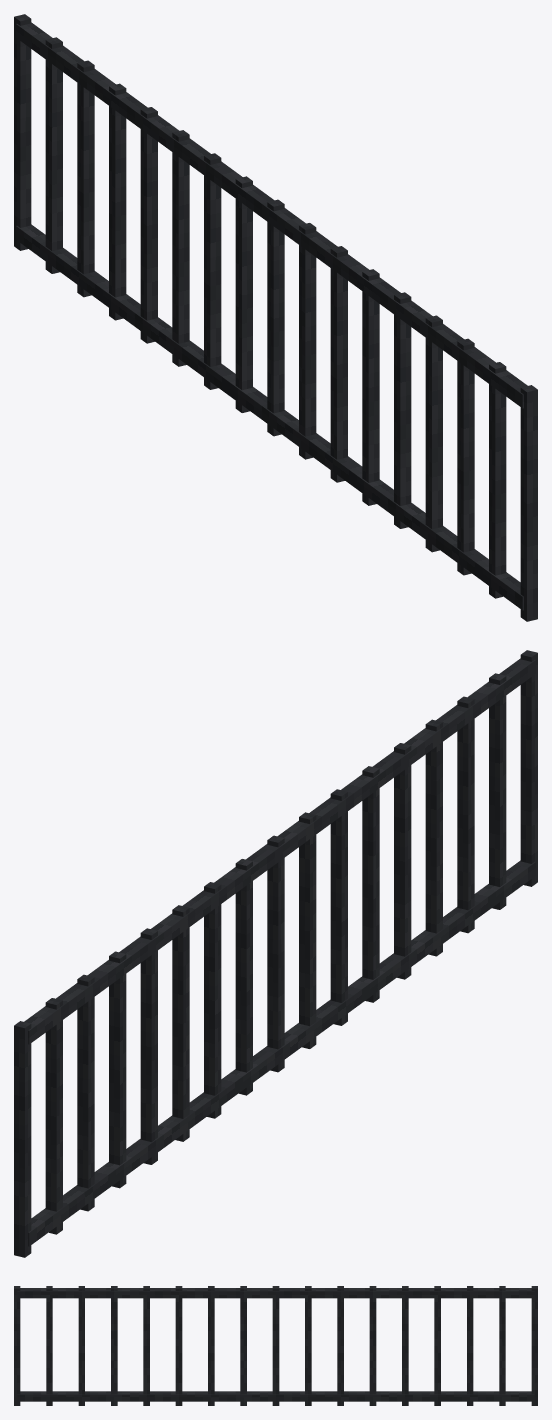
The model's file is env_railing.glb.
3 views of the same model, one above another, from view 1: azimuth 30°, elevation 25°; view 2: azimuth 150°, elevation 25°; view 3: azimuth 270°, elevation 25° (orthographic). The views are drawn at different scales.
Visible parts, largest first — view 1: env_railing; view 2: env_railing; view 3: env_railing.
Part boxes in pixels (x1=…): env_railing: x1=14, y1=14, x2=537, y2=621; env_railing: x1=14, y1=650, x2=537, y2=1257; env_railing: x1=14, y1=1286, x2=537, y2=1405.
Size of the model in its own units: 0.06 by 1 by 4.05.
Materials: 1 (1 with a texture image).
